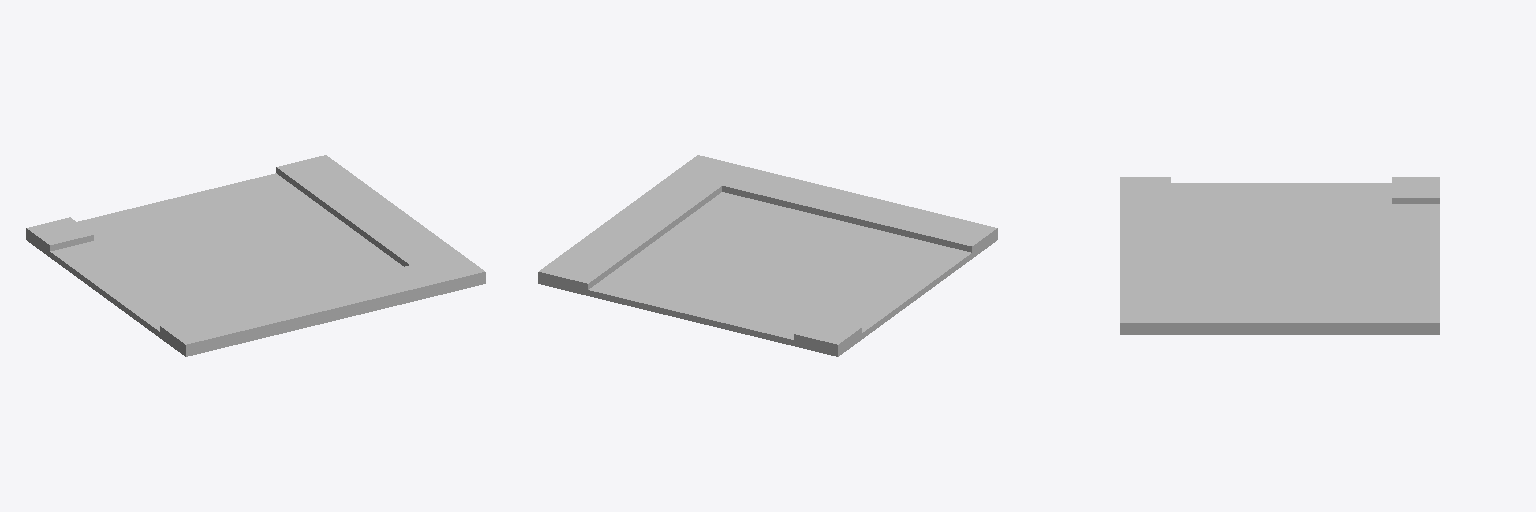
Rendered from _oad_base-1.obj.
3 renders of one model, left to right at view 1: azimuth 30°, elevation 25°; view 2: azimuth 150°, elevation 25°; view 3: azimuth 270°, elevation 25°, orthographic.
Visible parts, largest first — view 1: object 1; view 2: object 1; view 3: object 1.
Part boxes in pixels (x1,y1,x2,y2): object 1: (26, 155, 485, 356); object 1: (538, 155, 997, 356); object 1: (1120, 177, 1439, 334).
Size of the model in its own units: 10.2 by 0.4 by 9.4.